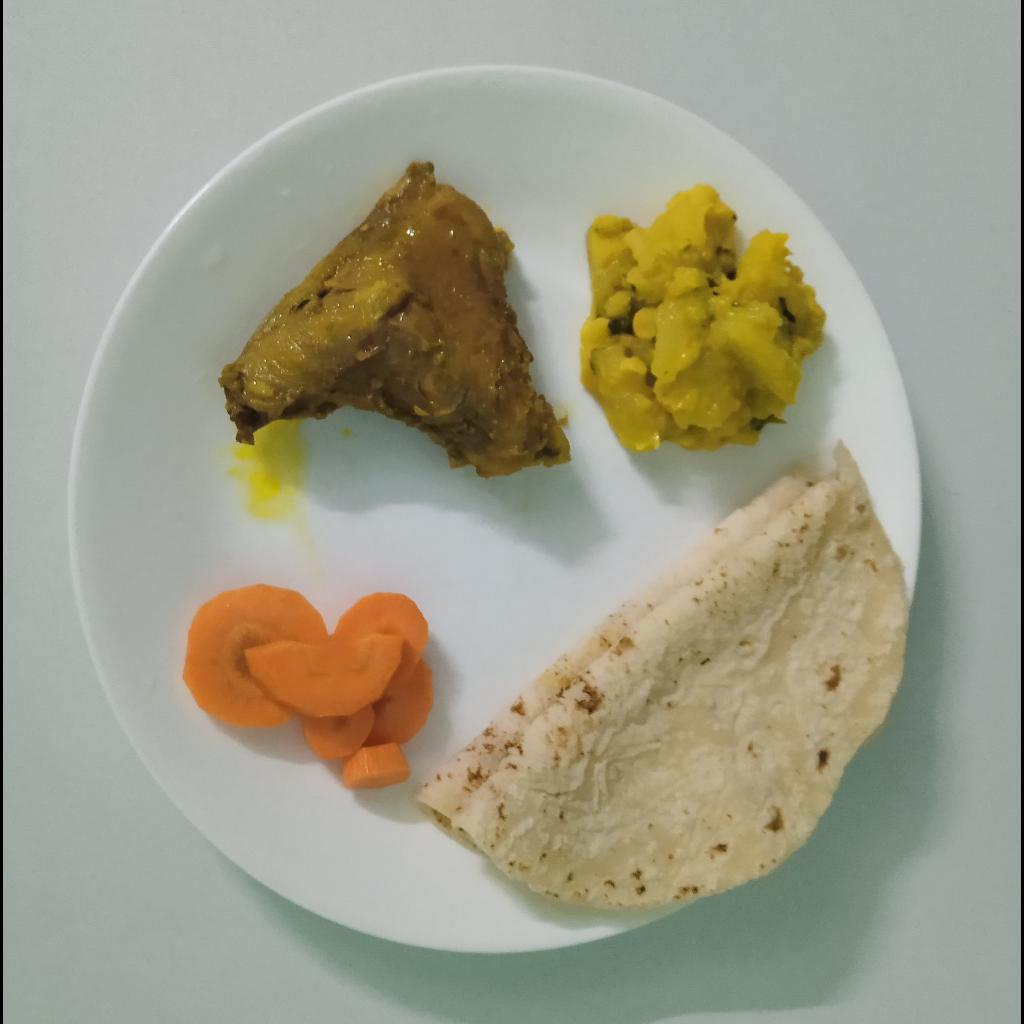carrot: (182, 583, 434, 791)
chicken: (221, 161, 572, 481)
papaya: (580, 184, 827, 453)
ruti: (417, 463, 912, 908)
